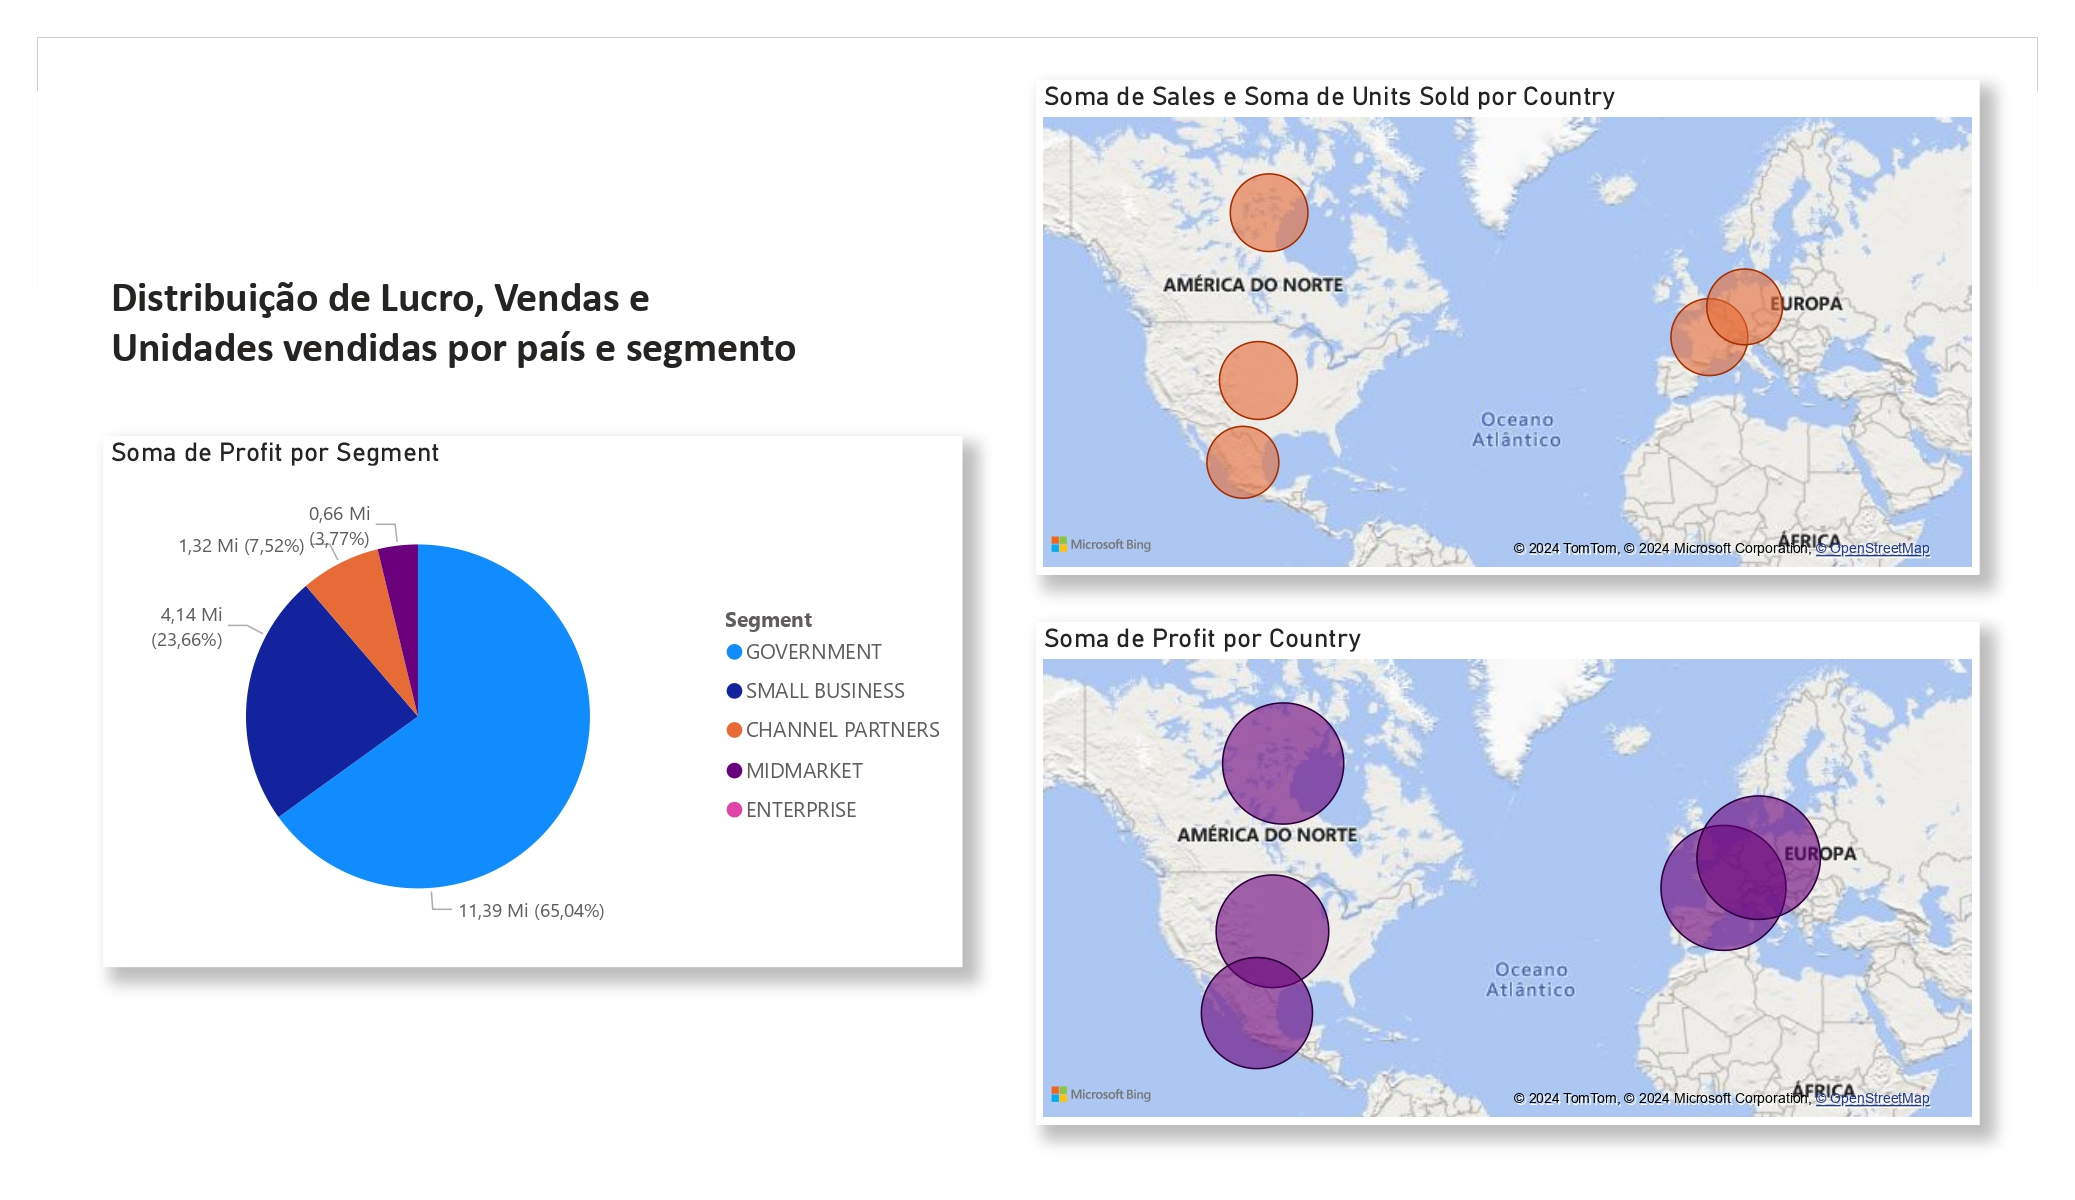

The page's visual inventory and layout, read from the dashboard file:
{"tool":"powerbi","page":{"name":"Página 3","canvas":[1280,720],"ordinal":2},"visuals":[{"type":"pieChart","fields":{"Category":["financials.Segment"],"Y":["Sum(financials.Profit)"]},"box":[41.8,254.9,550.1,339.8],"z":0},{"type":"map","fields":{"Category":["financials.Country"],"Size":["Sum(financials. Sales)"]},"box":[639.4,27.4,593.3,316.8],"z":1},{"type":"map","fields":{"Category":["financials.Country"],"Size":["Sum(financials.Profit)"]},"box":[639.4,374.4,593.3,321.1],"z":2},{"type":"textbox","box":[41.8,145.4,578.9,79.2],"z":3}]}

Visuals, with their boxes in screenshot pixels (x1, y1, x2, y2):
pieChart - financials.Segment x Sum(financials.Profit): [left=103, top=436, right=962, bottom=967]
map - financials.Country x Sum(financials. Sales): [left=1037, top=80, right=1964, bottom=575]
map - financials.Country x Sum(financials.Profit): [left=1037, top=622, right=1964, bottom=1124]
textbox: [left=103, top=265, right=1007, bottom=388]
